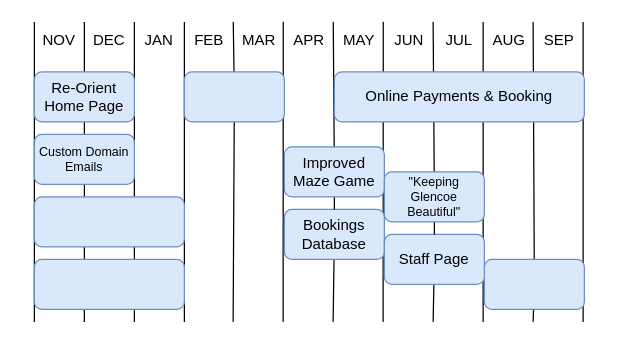
The diagram is 618 pixels wide and 345 high, and some of its shapes have lost their labels. The centre of each missing label's shape, as x and y in pixels:
"Expanded Analytics" goes at [533,283].
"Expanded Dynamic Configs & Interfaces" goes at [108,221].
"Integrated Forms & Dashboard" goes at [233,96].
"Scrolling Announcement Ticker" goes at [108,283].
